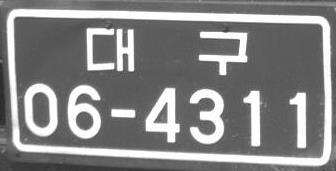0: (23, 82, 59, 137)
1: (236, 88, 270, 146), (283, 91, 314, 149)
3: (189, 87, 225, 144)
4: (144, 87, 180, 143)
6: (66, 83, 103, 139)
대구_D: (86, 26, 248, 76)
